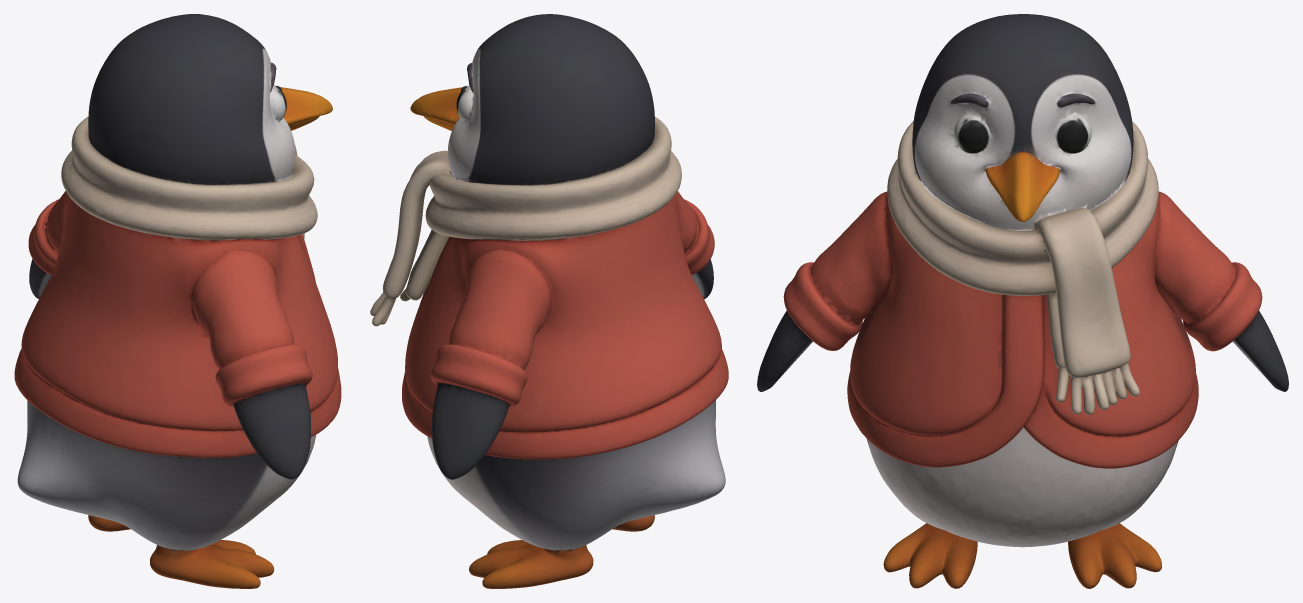
File: ops.glb
3 views of the same model, side by side, from view 1: azimuth 30°, elevation 25°; view 2: azimuth 150°, elevation 25°; view 3: azimuth 270°, elevation 25° (orthographic). The views are drawn at different scales.
Parts seen in each view (by area): view 1: tripo_node_ccd2b453-d5ab-4e08-aee1-9591b449668d; view 2: tripo_node_ccd2b453-d5ab-4e08-aee1-9591b449668d; view 3: tripo_node_ccd2b453-d5ab-4e08-aee1-9591b449668d.
Boxes of the visible parts, x1=… form: tripo_node_ccd2b453-d5ab-4e08-aee1-9591b449668d: x1=14, y1=14, x2=341, y2=588; tripo_node_ccd2b453-d5ab-4e08-aee1-9591b449668d: x1=370, y1=14, x2=728, y2=588; tripo_node_ccd2b453-d5ab-4e08-aee1-9591b449668d: x1=757, y1=14, x2=1288, y2=588.
Bounding box in the file's own units: 0.6365 × 1 × 0.8746.
1 material, 1 textured.
